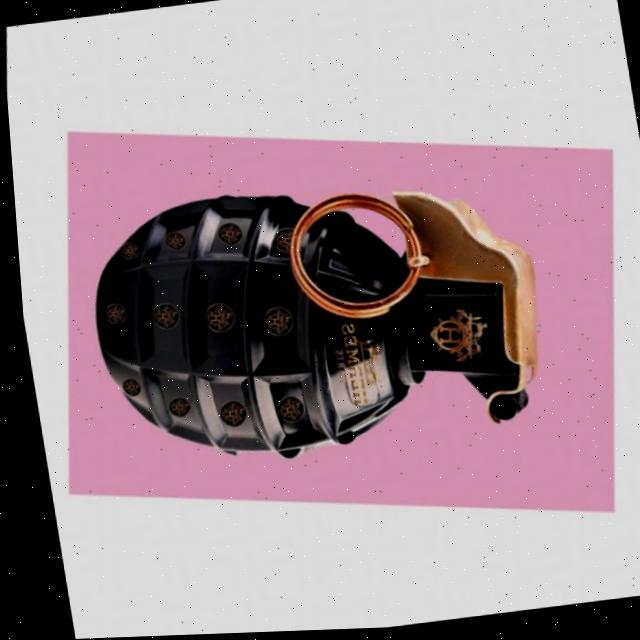grenade: (40, 134, 561, 519)
